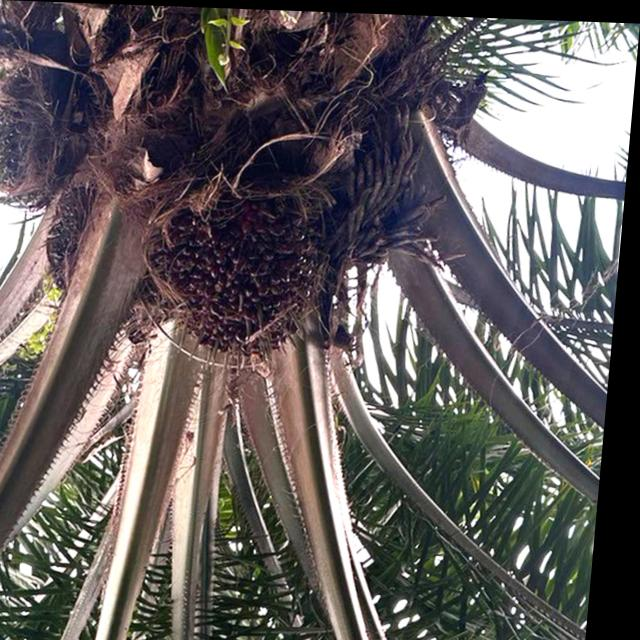ripe: (151, 199, 346, 380)
